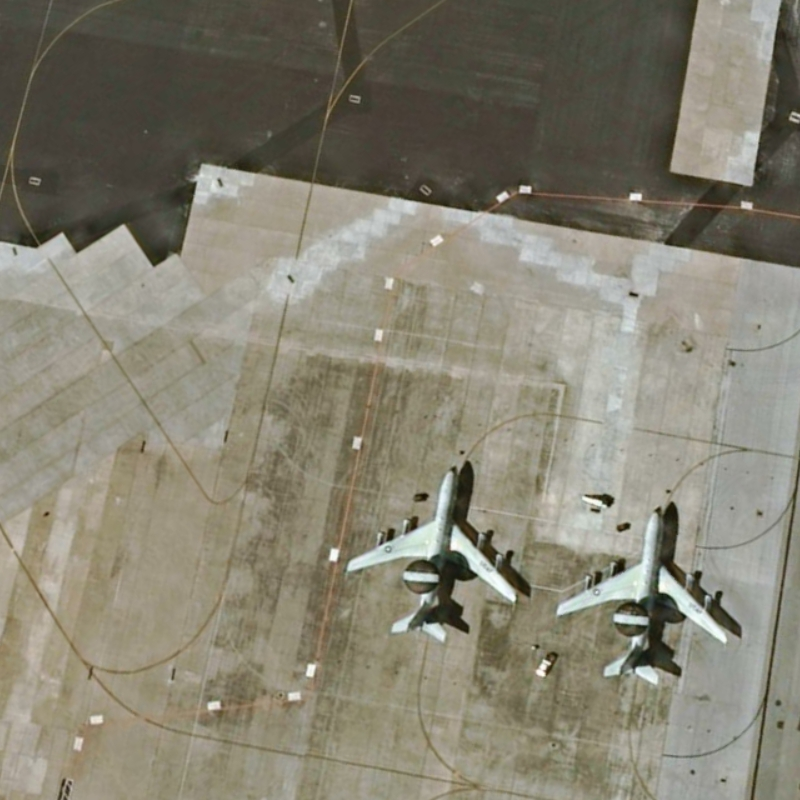A7: (551, 496, 732, 697), (340, 458, 527, 652)
